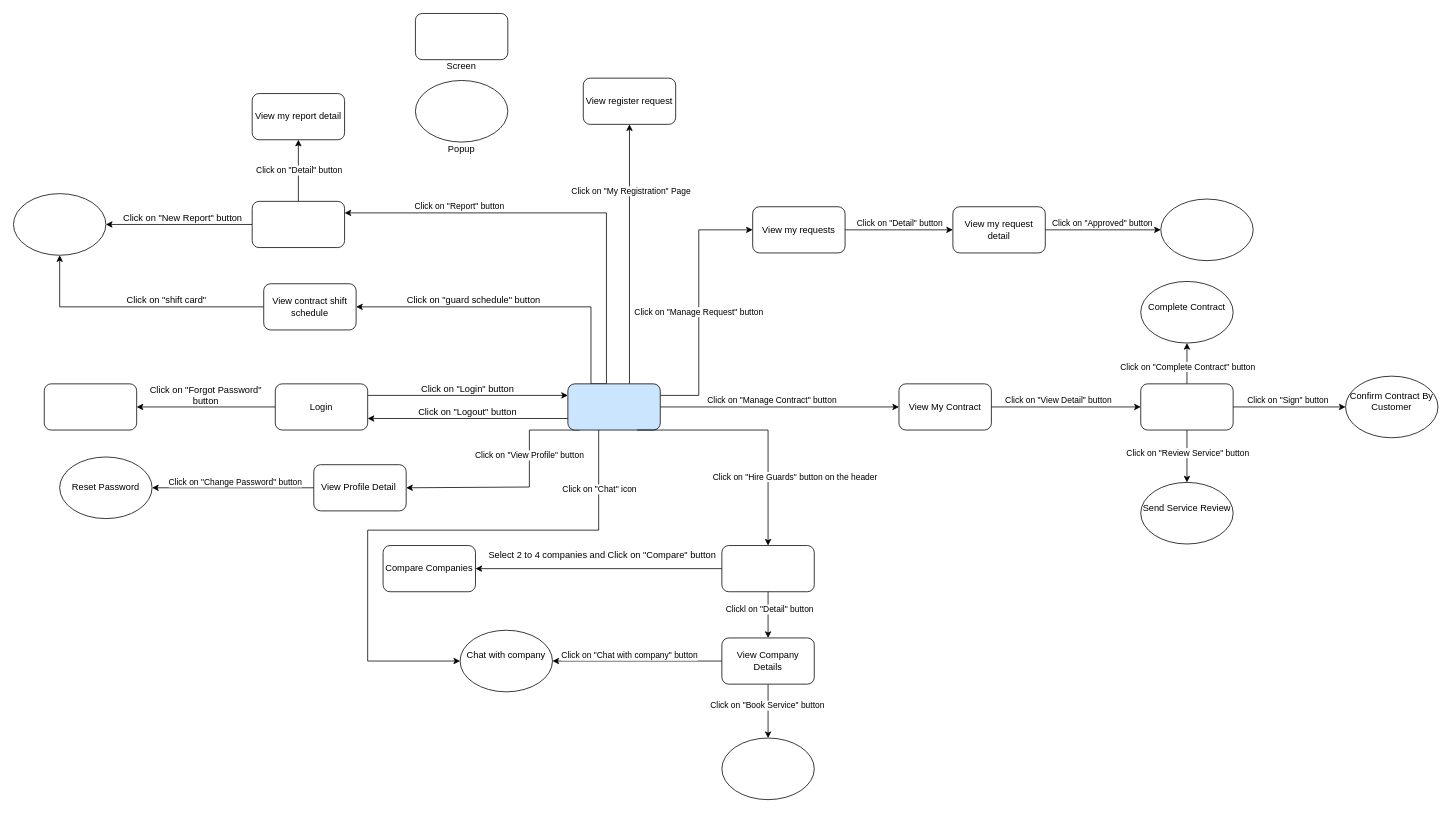
The diagram is 1451 pixels wide and 813 high, and some of its shapes have lost their labels. The shapes that lost their labels are listed below. From the top down, each one's box as (x1, y1, x2, y2) in pixels, then its label:
(13, 193, 106, 255): Submit report
(251, 201, 345, 248): View my reports
(1160, 198, 1253, 261): Confirm/Deny quotation
(44, 383, 137, 430): Forgot password
(567, 383, 660, 430): Home
(1140, 383, 1233, 430): View My Contract Detail
(721, 545, 814, 592): View Companies
(721, 737, 814, 800): Send Service request
